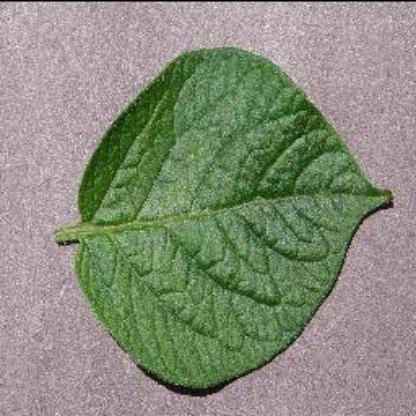Healthy-plant: (34, 42, 406, 398)
